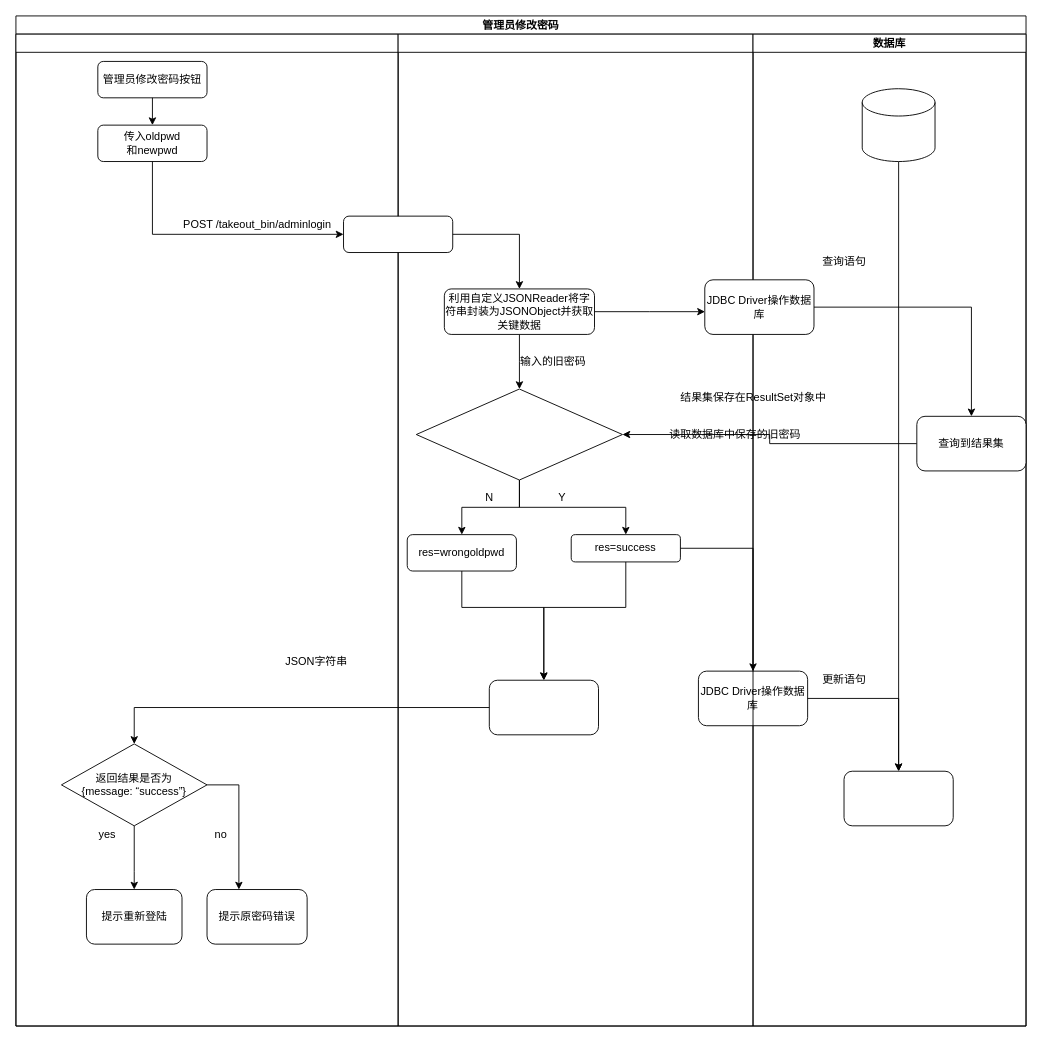
Image size: 1042x1042. Some labels were removed from this diagram. The shapes that lost their labels are listed below. From the top down, each one's box as (x1, y1, x2, y2) in pixels, then its label:
(861, 88, 935, 162): 连接数据库中admin表格
(343, 215, 453, 253): Tomcat服务器
(415, 388, 622, 480): 输入的密码=数据库中保存的旧密码？
(15, 33, 398, 1026): 前端
(397, 33, 753, 1026): 后端
(488, 679, 599, 735): res封装到JSONObject
(843, 770, 953, 826): 更新数据
